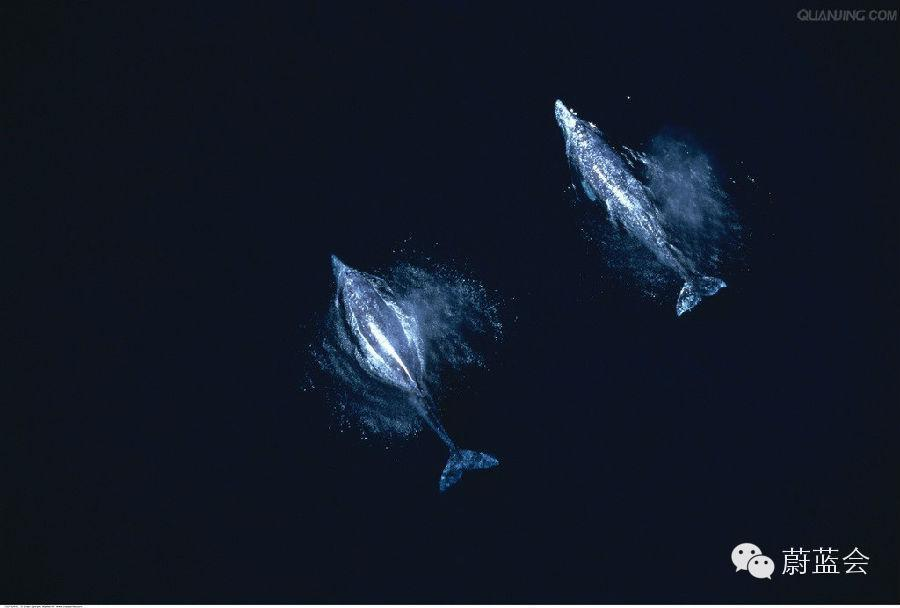fish: (553, 96, 733, 324), (321, 252, 498, 479)
